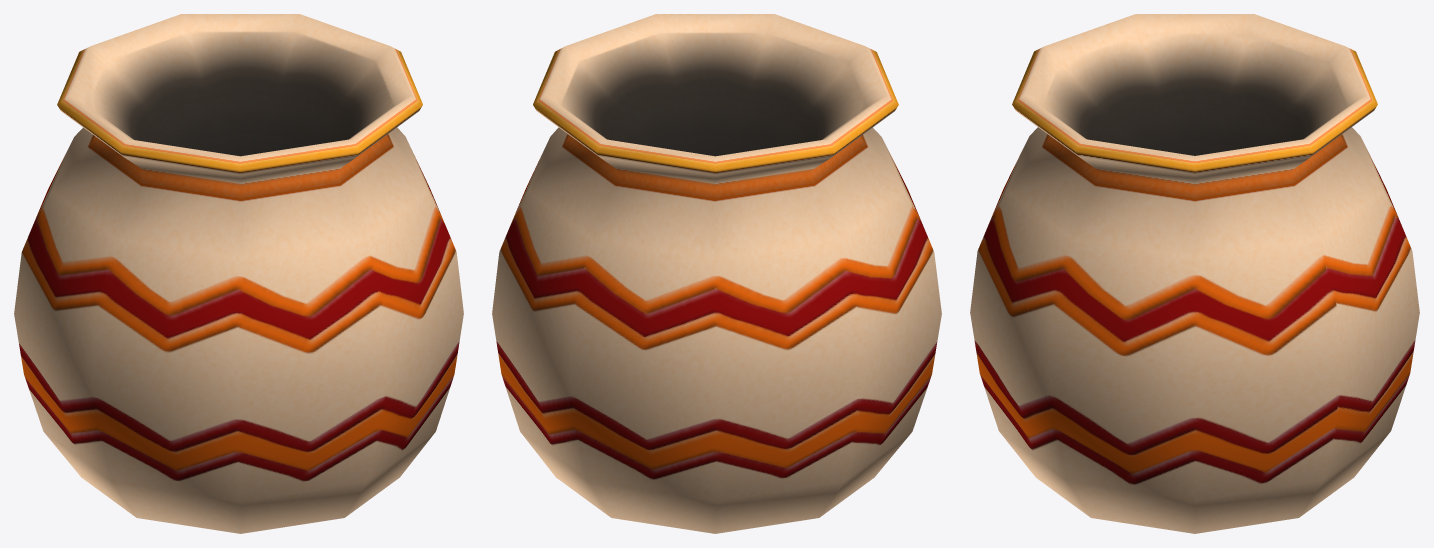
Rendered from Pot.fbx.
3 renders of one model, left to right at view 1: azimuth 30°, elevation 25°; view 2: azimuth 150°, elevation 25°; view 3: azimuth 270°, elevation 25°, orthographic.
Parts seen in each view (by area): view 1: Pot; view 2: Pot; view 3: Pot.
Boxes of the visible parts, x1,y1,x2,y2 form: Pot: (14, 14, 463, 533); Pot: (492, 14, 941, 533); Pot: (970, 14, 1419, 533).
Size of the model in its own units: 1.64 by 1.57 by 1.67.
